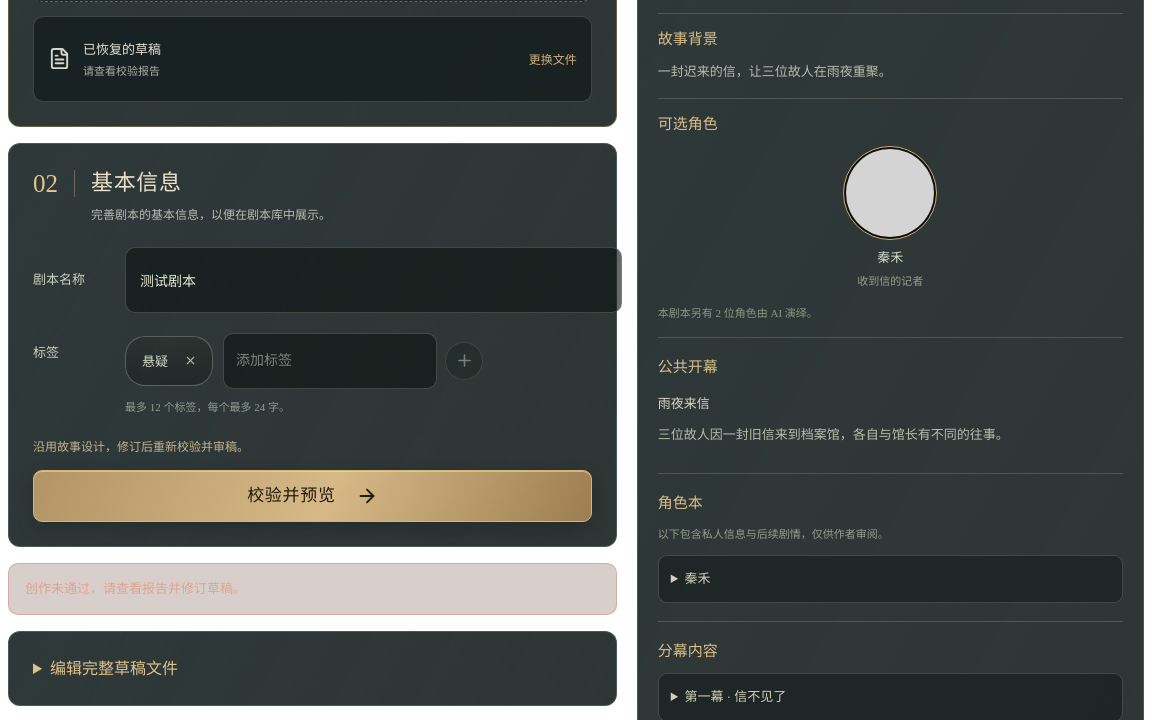
Test case: ScriptCreatorView › retains the failed AI review source after changing only its tag
(page scrolled)
Type "身份" into the field labelled "标签". click: [330, 361]
box: [223, 333, 437, 389]
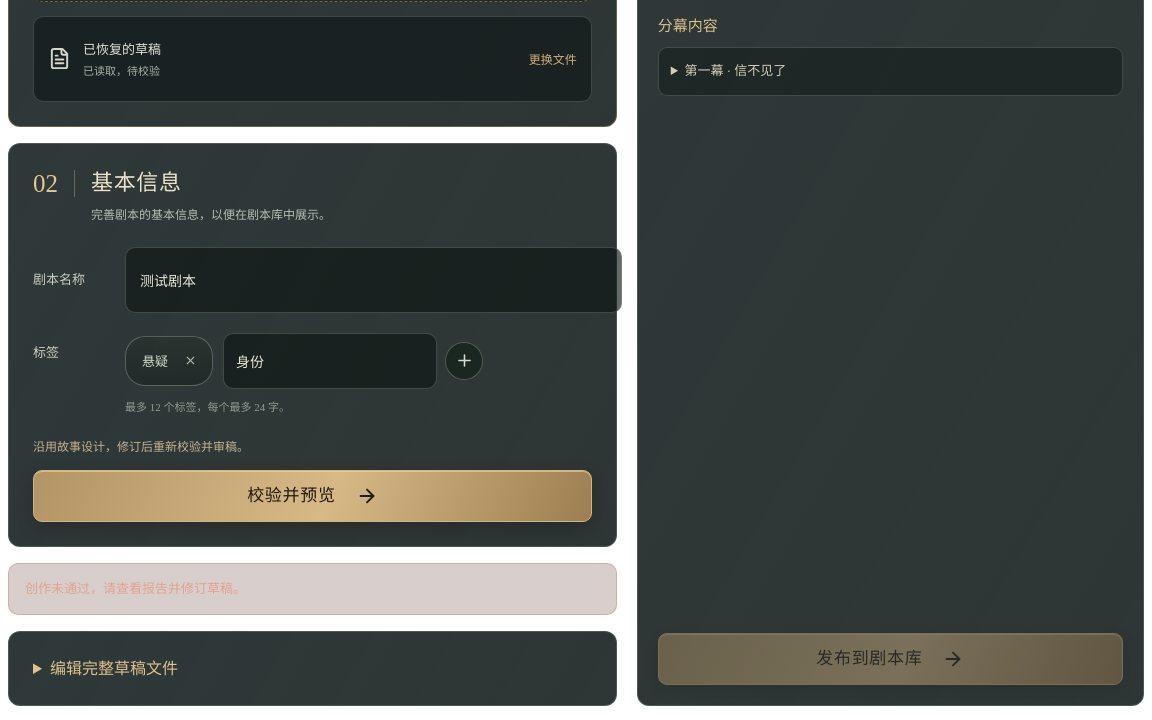
Click the button named "添加标签". click: [464, 361]
box: [445, 342, 483, 380]
(page scrolled)
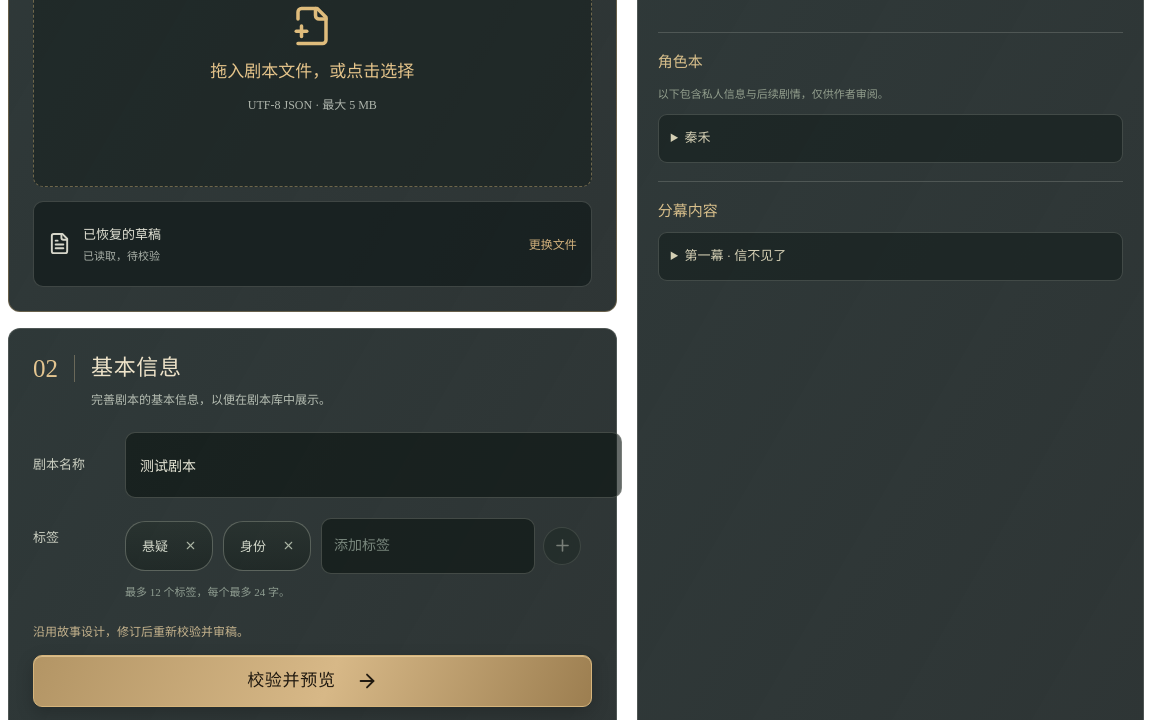
Expected: the text "沿用故事设计，修订后重新校验并审稿。" is shown, [33, 624, 249, 638]
Submit the form
(page scrolled)
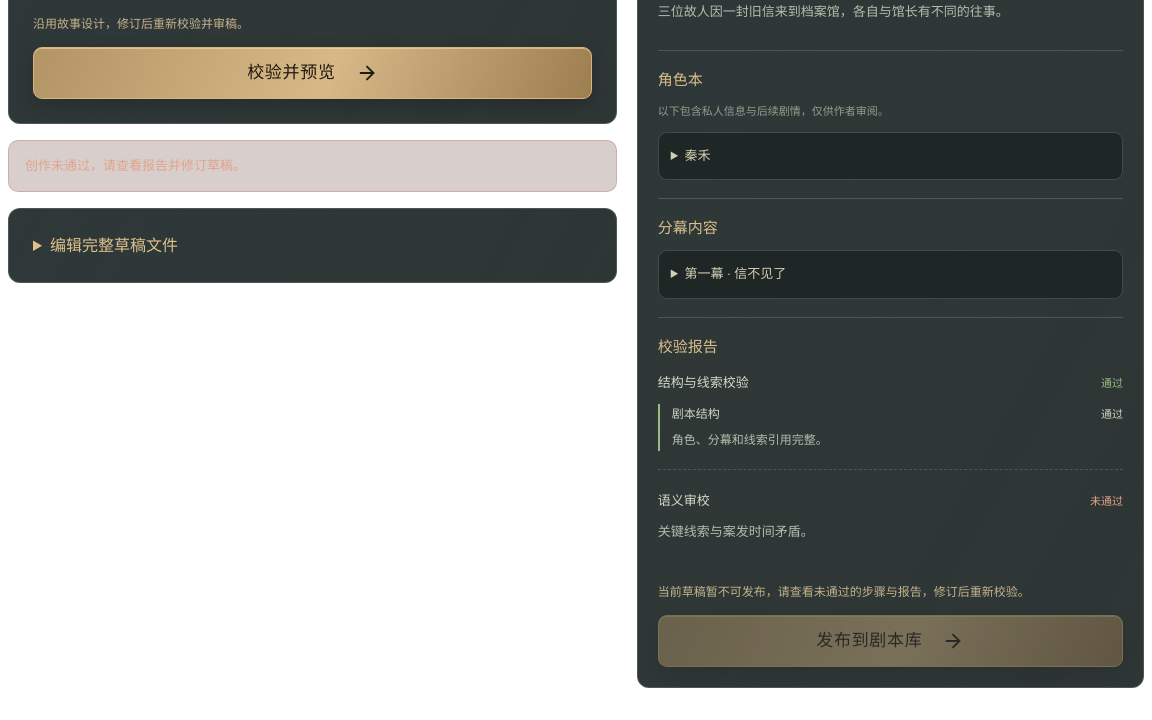
Expected: the button "发布到剧本库" is disabled, [658, 615, 1123, 667]
Expected: the element showing "校验报告 结构与线索校验 通过 剧本结构 通过 角色、分幕和线索引用完整。 语义审校 未通过 关键线索与案发时间矛盾。" is shown, [658, 316, 1123, 570]
